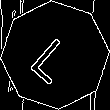L_NE: (27, 26, 83, 84)
